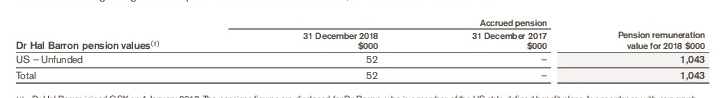table: (0, 0, 723, 98)
